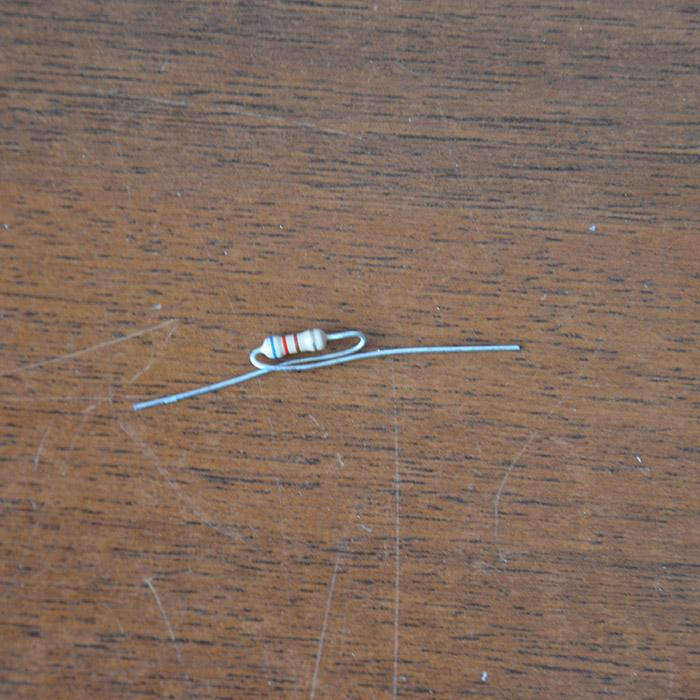resistor: (259, 327, 328, 360)
